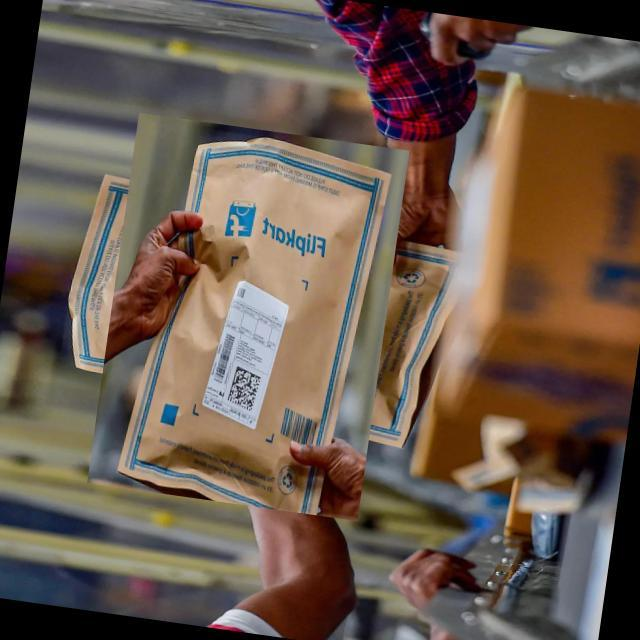cardboxes: (63, 134, 430, 500)
